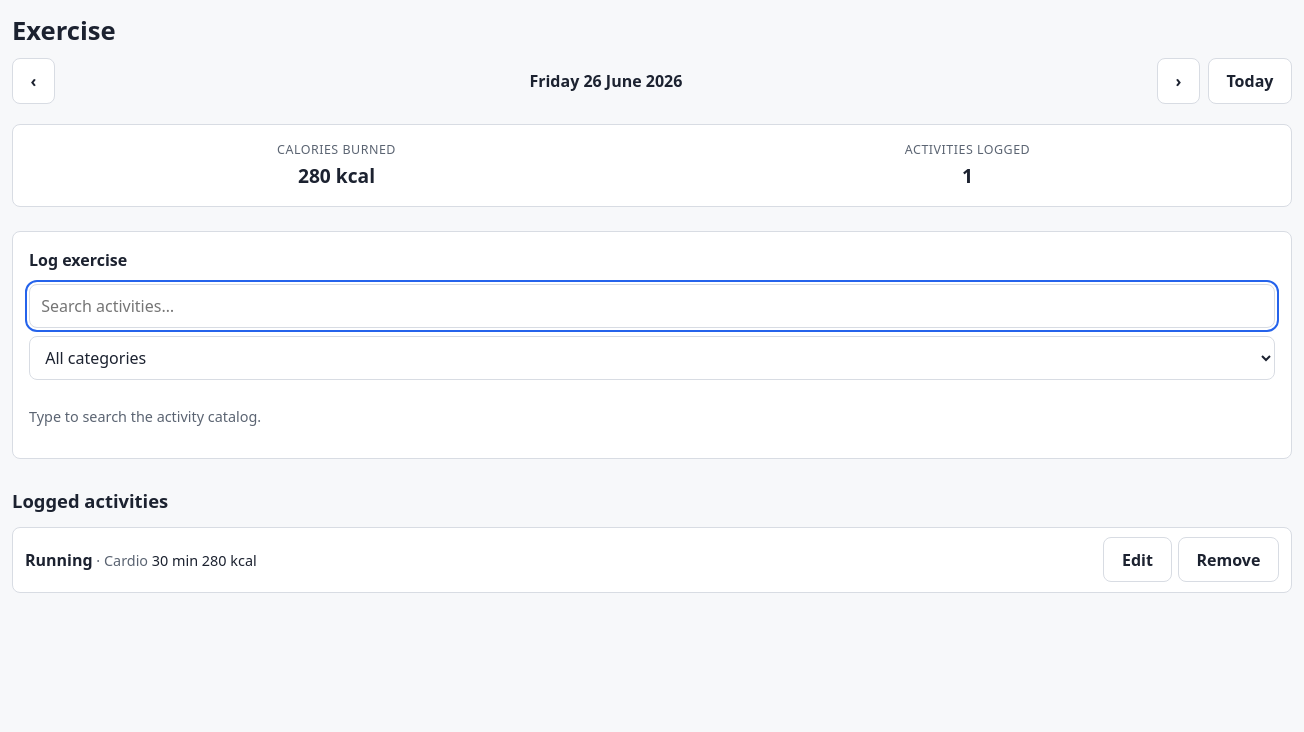
ExercisePage › shows a complete-profile link when logging returns a 422
In the search field: (652, 306) [29,284,1275,328], type "run"
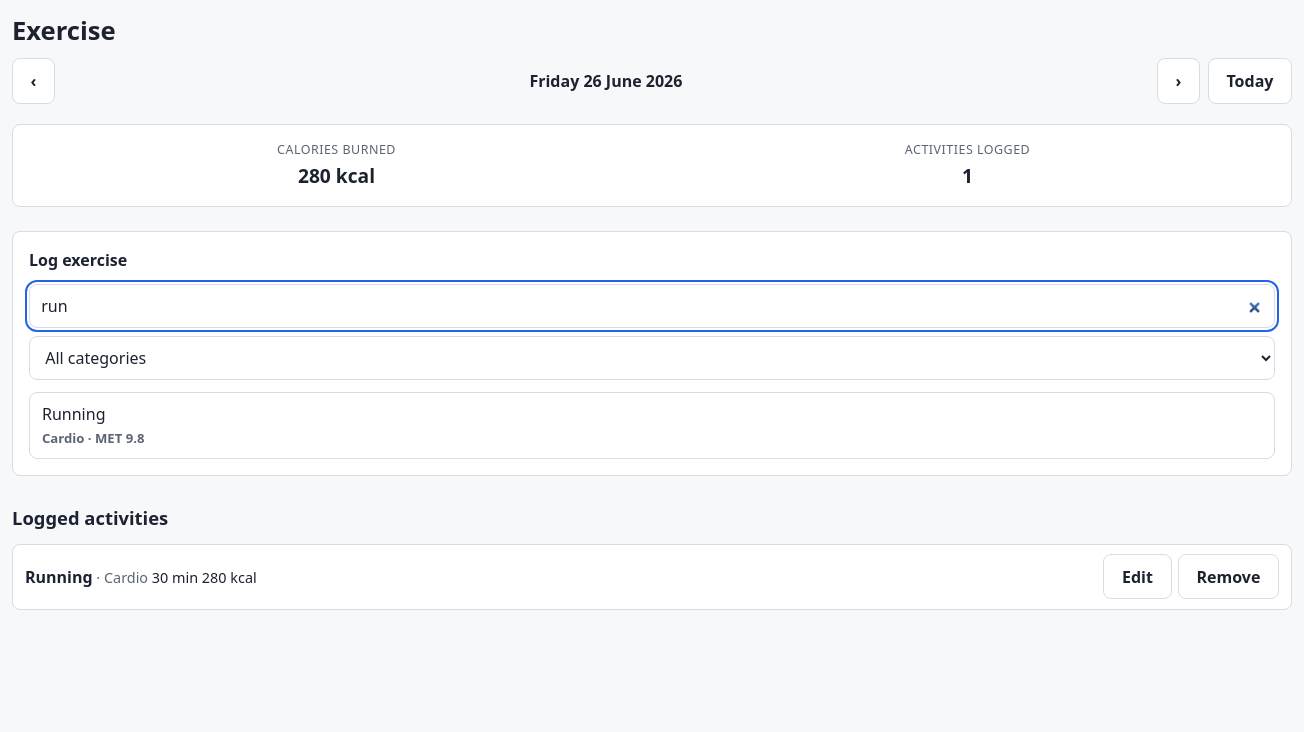
Click the button "Running Cardio · MET 9.8": (74, 414) [29,392,1275,459]
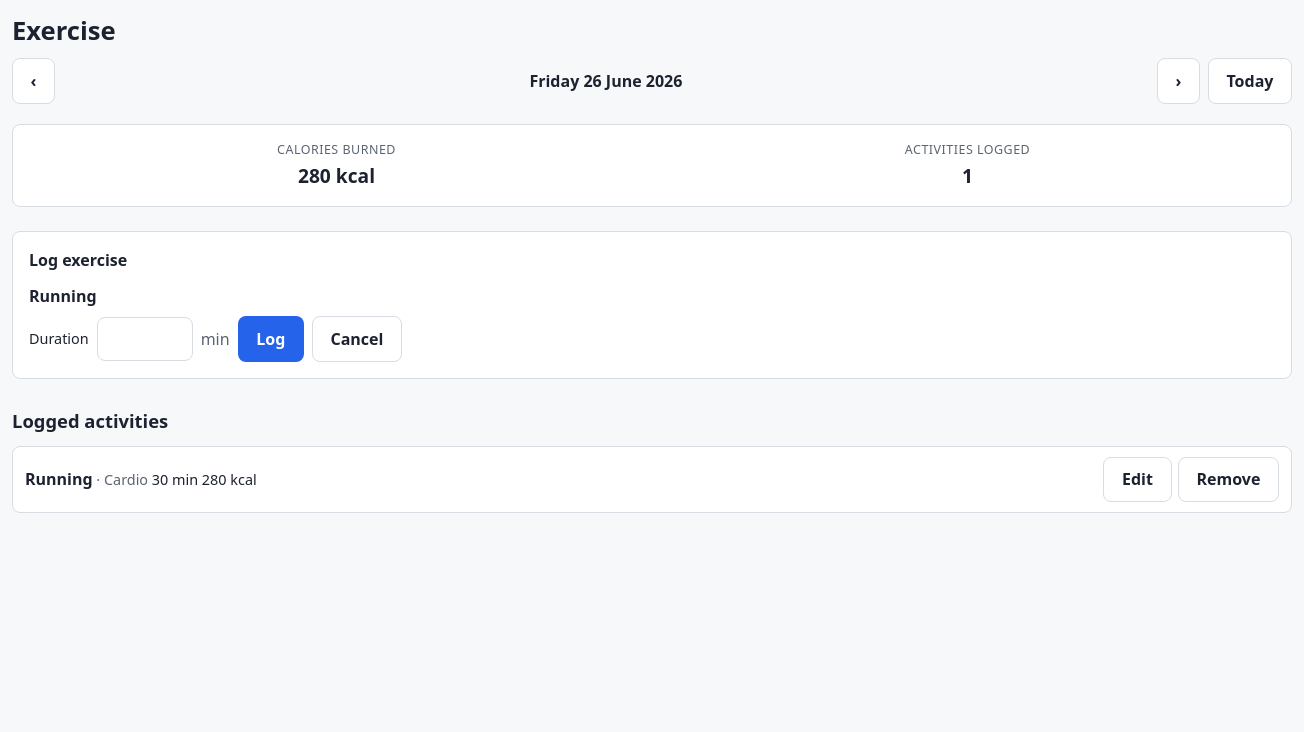
In the number field labelled "Duration": (145, 339) [97,317,193,361], type "30"
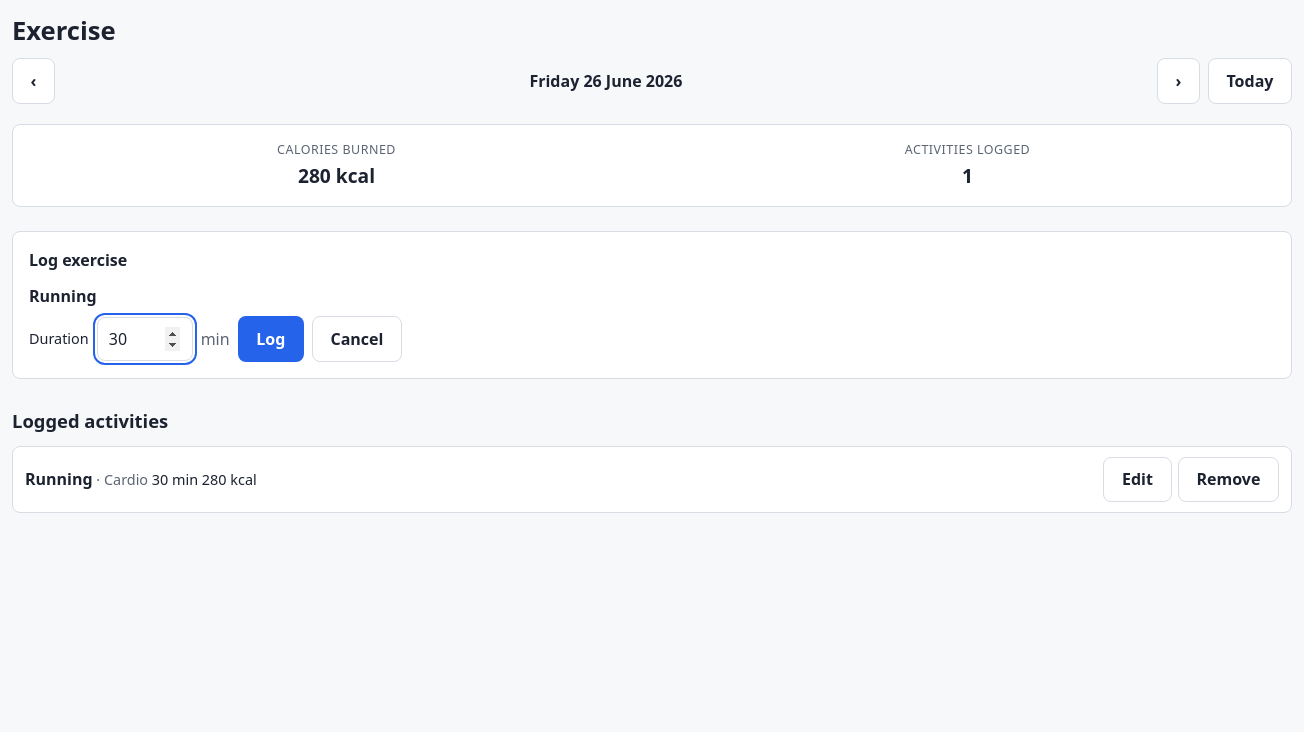
Click the button "Log": (271, 339) [238,316,304,362]
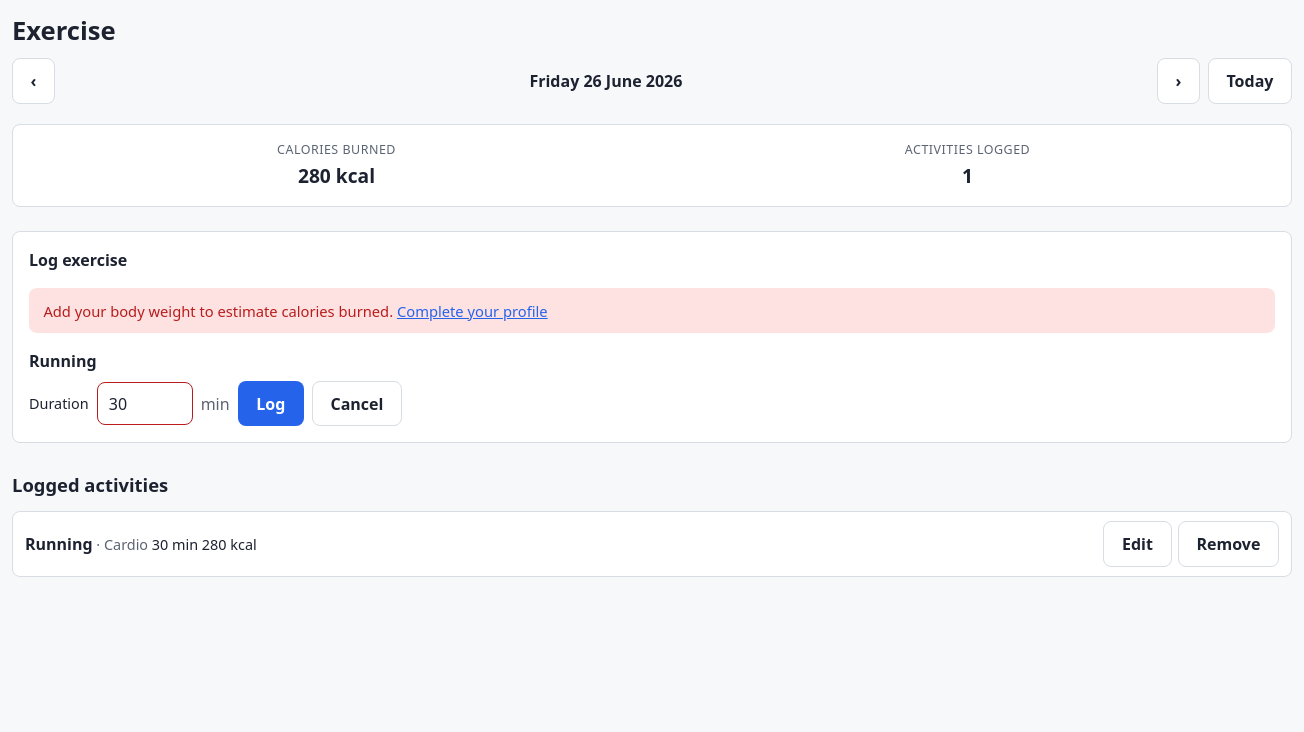
Expected: the link "Complete your profile" is shown, [397,301,548,321]
